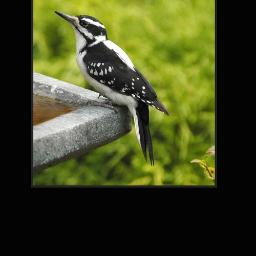Woodpecker: (53, 6, 169, 167)
